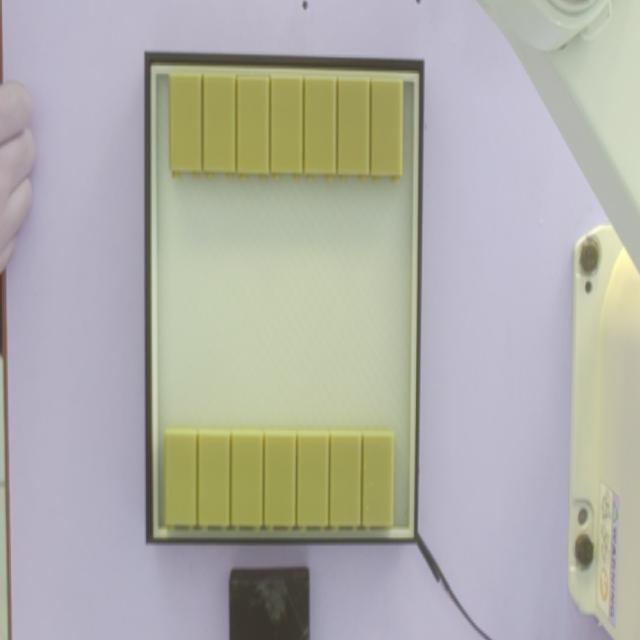bateria: (304, 77, 338, 181), (370, 80, 404, 184), (198, 427, 232, 531), (264, 427, 298, 531), (328, 429, 362, 533), (361, 428, 395, 532), (203, 76, 237, 179), (237, 76, 271, 179), (337, 79, 371, 182), (231, 428, 265, 531), (169, 74, 202, 178), (164, 429, 197, 533), (271, 77, 303, 180), (298, 429, 328, 532)
mesa: (145, 51, 424, 544)
